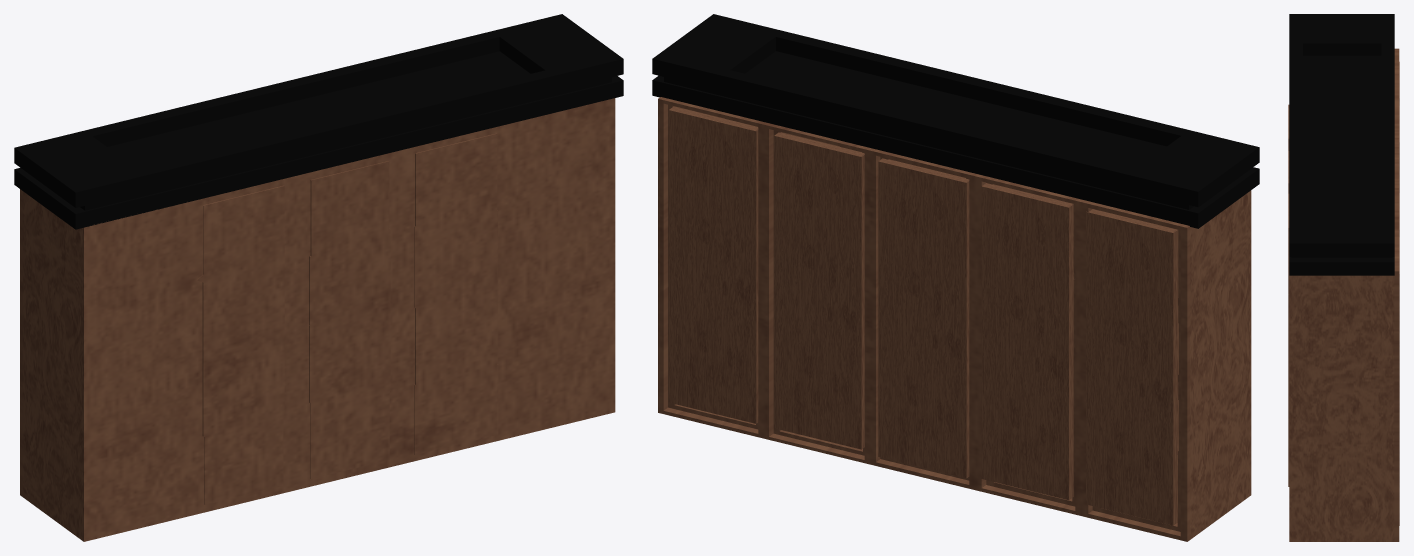
Rendered from WARDROBE.fbx.
The picture shows the model from 3 angles, left to right: view 1: azimuth 30°, elevation 25°; view 2: azimuth 150°, elevation 25°; view 3: azimuth 270°, elevation 25°; orthographic projection. The views are drawn at different scales.
Parts seen in each view (by area): view 1: Cube.010, Cube.012; view 2: Cube.012, Cube.010, Cube.014, Cube.015, Cube.013, Cube.016, Cube.017; view 3: Cube.010, Cube.012, Cube.017.
Boxes of the visible parts, x1,y1,x2,y2 form: Cube.010: (20,98,615,541); Cube.012: (14,14,623,229); Cube.012: (652,14,1259,228); Cube.010: (658,97,1251,541); Cube.014: (981,183,1073,499); Cube.015: (878,158,969,478); Cube.013: (1086,209,1178,525); Cube.016: (774,132,864,449); Cube.017: (668,106,758,423); Cube.010: (1288,48,1399,541); Cube.012: (1289,14,1394,275); Cube.017: (1399,237,1399,525).
Bounding box in the file's own units: 2982 × 1827 × 611.
